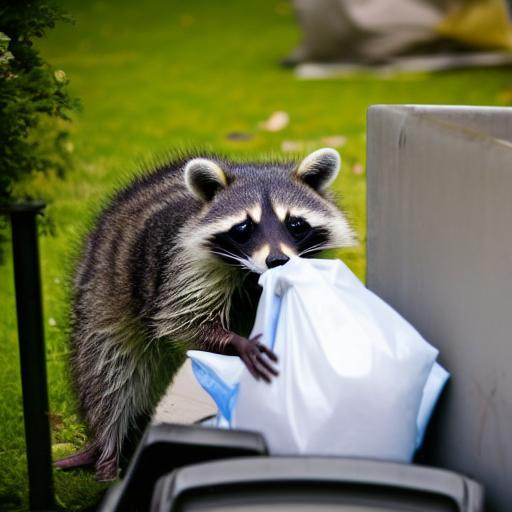raccoon: (58, 143, 363, 483)
